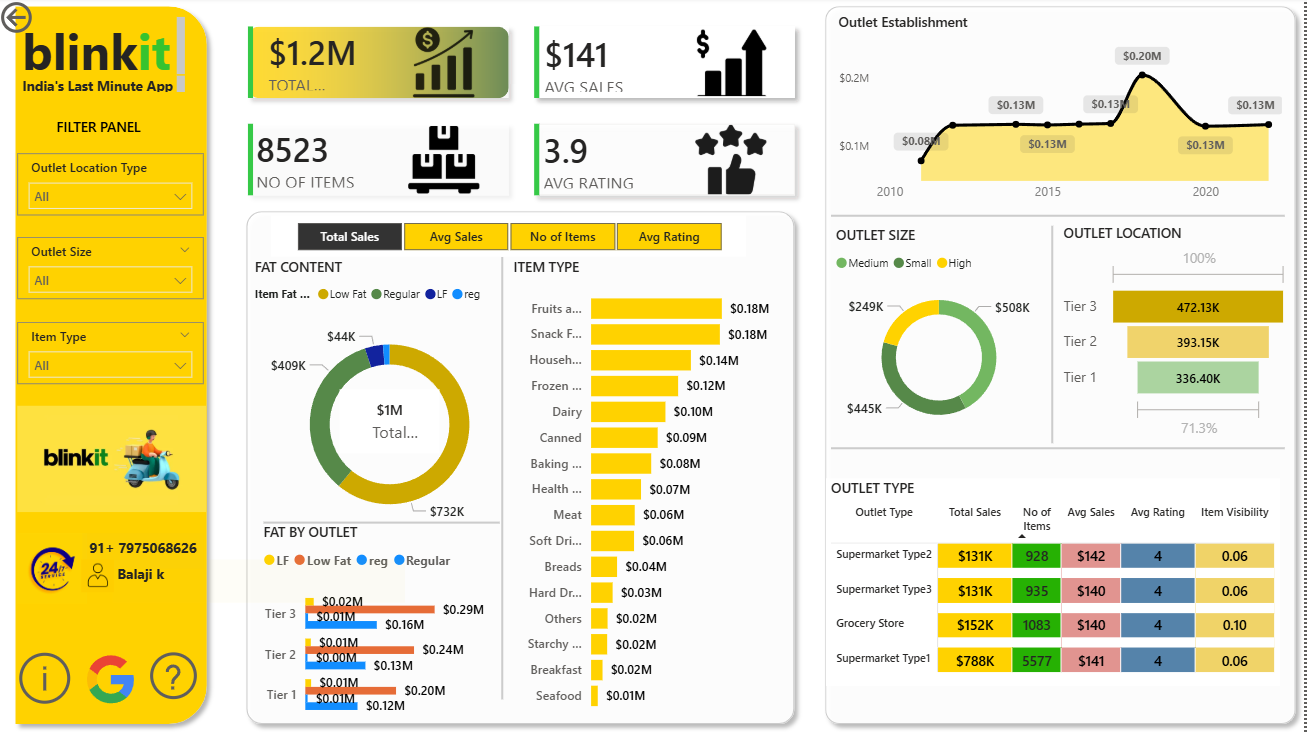

The dashboard page shown, as its layout file describes it:
{"tool":"powerbi","page":{"name":"Page 1","canvas":[1280,720],"ordinal":0},"visuals":[{"type":"shape","box":[9.8,0,205.4,720.2],"z":0},{"type":"textbox","box":[20.6,15.1,168.8,70],"z":1000},{"type":"textbox","box":[20.8,72.1,168.8,25.7],"z":2000},{"type":"cardVisual","fields":{"Data":["BlinkIT Grocery Data.Total Sales","BlinkIT Grocery Data.Avg Sales","BlinkIT Grocery Data.No of Items","BlinkIT Grocery Data.Avg Rating"]},"box":[217.7,0,593.1,223.8],"z":3000},{"type":"shape","box":[236,200.5,553.9,519.7],"z":4000},{"type":"donutChart","title":"FAT CONTENT","fields":{"Y":["BlinkIT Grocery Data.Total Sales"],"Category":["BlinkIT Grocery Data.Item Fat Content"]},"box":[248.2,254.3,273.9,282.5],"z":5000},{"type":"slicer","fields":{"Values":["Metrics.Metrics"]},"box":[269,214,464.7,40.4],"z":6000},{"type":"cardVisual","fields":{"Data":["BlinkIT Grocery Data.Total Sales"]},"box":[331.4,379.1,107.6,72.1],"z":7000},{"type":"clusteredBarChart","title":"FAT BY OUTLET","fields":{"Y":["BlinkIT Grocery Data.Total Sales"],"Category":["BlinkIT Grocery Data.Outlet Location Type"],"Series":["BlinkIT Grocery Data.Item Fat Content"]},"box":[256.8,513.6,236,206.7],"z":8000},{"type":"shape","box":[261.7,503.8,231.1,20.8],"z":9000},{"type":"shape","box":[489.1,254.3,12.2,432.9],"z":10000},{"type":"barChart","title":"ITEM TYPE","fields":{"Y":["BlinkIT Grocery Data.Total Sales"],"Category":["BlinkIT Grocery Data.Item Type"]},"box":[501.4,254.3,270.2,454.9],"z":11000},{"type":"shape","box":[802.2,0,478.1,720.2],"z":12000},{"type":"lineChart","title":"Outlet Establishment","fields":{"Category":["BlinkIT Grocery Data.Outlet Establishment Year"],"Y":["BlinkIT Grocery Data.Total Sales"]},"box":[819.3,14.7,443.9,194.4],"z":13000},{"type":"shape","box":[816.9,204.2,443.9,19.6],"z":14000},{"type":"donutChart","title":"OUTLET SIZE","fields":{"Y":["BlinkIT Grocery Data.Total Sales"],"Category":["BlinkIT Grocery Data.Outlet Size"]},"box":[816.9,223.8,211.6,212.8],"z":15000},{"type":"shape","box":[1027.2,223.8,12.2,212.8],"z":16000},{"type":"funnel","title":"OUTLET LOCATION","fields":{"Y":["Sum(BlinkIT Grocery Data.Sales)"],"Category":["BlinkIT Grocery Data.Outlet Location Type"]},"box":[1039.4,221.3,229.9,215.2],"z":17000},{"type":"shape","box":[816.9,431.7,443.9,19.6],"z":18000},{"type":"pivotTable","title":"OUTLET TYPE","fields":{"Rows":["BlinkIT Grocery Data.Outlet Type"],"Values":["BlinkIT Grocery Data.Total Sales","BlinkIT Grocery Data.No of Items","BlinkIT Grocery Data.Avg Sales","BlinkIT Grocery Data.Avg Rating","Avg(BlinkIT Grocery Data.Item Visibility)"]},"box":[812,470.8,443.9,203],"z":19000},{"type":"actionButton","box":[0,0,100,40],"z":20000},{"type":"slicer","fields":{"Values":["BlinkIT Grocery Data.Outlet Location Type"]},"box":[20.8,152.9,182.2,61.1],"z":21000},{"type":"slicer","fields":{"Values":["BlinkIT Grocery Data.Outlet Size"]},"box":[20.8,234.8,182.2,61.1],"z":22000},{"type":"slicer","fields":{"Values":["BlinkIT Grocery Data.Item Type"]},"box":[20.8,317.9,182.2,61.1],"z":23000},{"type":"textbox","box":[48.9,112.5,102.7,35.5],"z":24000},{"type":"image","box":[9.8,524.6,90.5,68.5],"z":25000},{"type":"image","box":[0,399.9,226.2,103.9],"z":26000},{"type":"textbox","box":[84.4,524.6,118.6,34.2],"z":27000},{"type":"textbox","box":[113.7,550.3,286.1,42.8],"z":28000},{"type":"image","box":[86.8,637.1,51.4,61.1],"z":29000},{"type":"actionButton","box":[144.3,634.7,103.9,58.7],"z":31000},{"type":"actionButton","box":[15.9,634.7,68.5,63.6],"z":32000},{"type":"image","box":[74.6,550.3,50.1,31.8],"z":33001}]}

Visuals, with their boxes in screenshot pixels (x1, y1, x2, y2), scaled from the page's 1280x720 canvas onto the 1307x732 screenshot:
shape: (10, 0, 220, 731)
textbox: (21, 15, 193, 87)
textbox: (21, 73, 194, 99)
cardVisual - BlinkIT Grocery Data.Total Sales x BlinkIT Grocery Data.Avg Sales: (222, 0, 828, 228)
shape: (241, 204, 807, 731)
"FAT CONTENT" donutChart: (253, 259, 533, 546)
slicer - Metrics.Metrics: (275, 218, 749, 259)
cardVisual - BlinkIT Grocery Data.Total Sales: (338, 385, 448, 459)
"FAT BY OUTLET" clusteredBarChart: (262, 522, 503, 731)
shape: (267, 512, 503, 533)
shape: (499, 259, 512, 699)
"ITEM TYPE" barChart: (512, 259, 788, 721)
shape: (819, 0, 1306, 731)
"Outlet Establishment" lineChart: (837, 15, 1290, 213)
shape: (834, 208, 1287, 228)
"OUTLET SIZE" donutChart: (834, 228, 1050, 444)
shape: (1049, 228, 1061, 444)
"OUTLET LOCATION" funnel: (1061, 225, 1296, 444)
shape: (834, 439, 1287, 459)
"OUTLET TYPE" pivotTable: (829, 479, 1282, 685)
actionButton: (0, 0, 102, 41)
slicer - BlinkIT Grocery Data.Outlet Location Type: (21, 155, 207, 218)
slicer - BlinkIT Grocery Data.Outlet Size: (21, 239, 207, 301)
slicer - BlinkIT Grocery Data.Item Type: (21, 323, 207, 385)
textbox: (50, 114, 155, 150)
image: (10, 533, 102, 603)
image: (0, 407, 231, 512)
textbox: (86, 533, 207, 568)
textbox: (116, 559, 408, 603)
image: (89, 648, 141, 710)
actionButton: (147, 645, 253, 705)
actionButton: (16, 645, 86, 710)
image: (76, 559, 127, 592)
